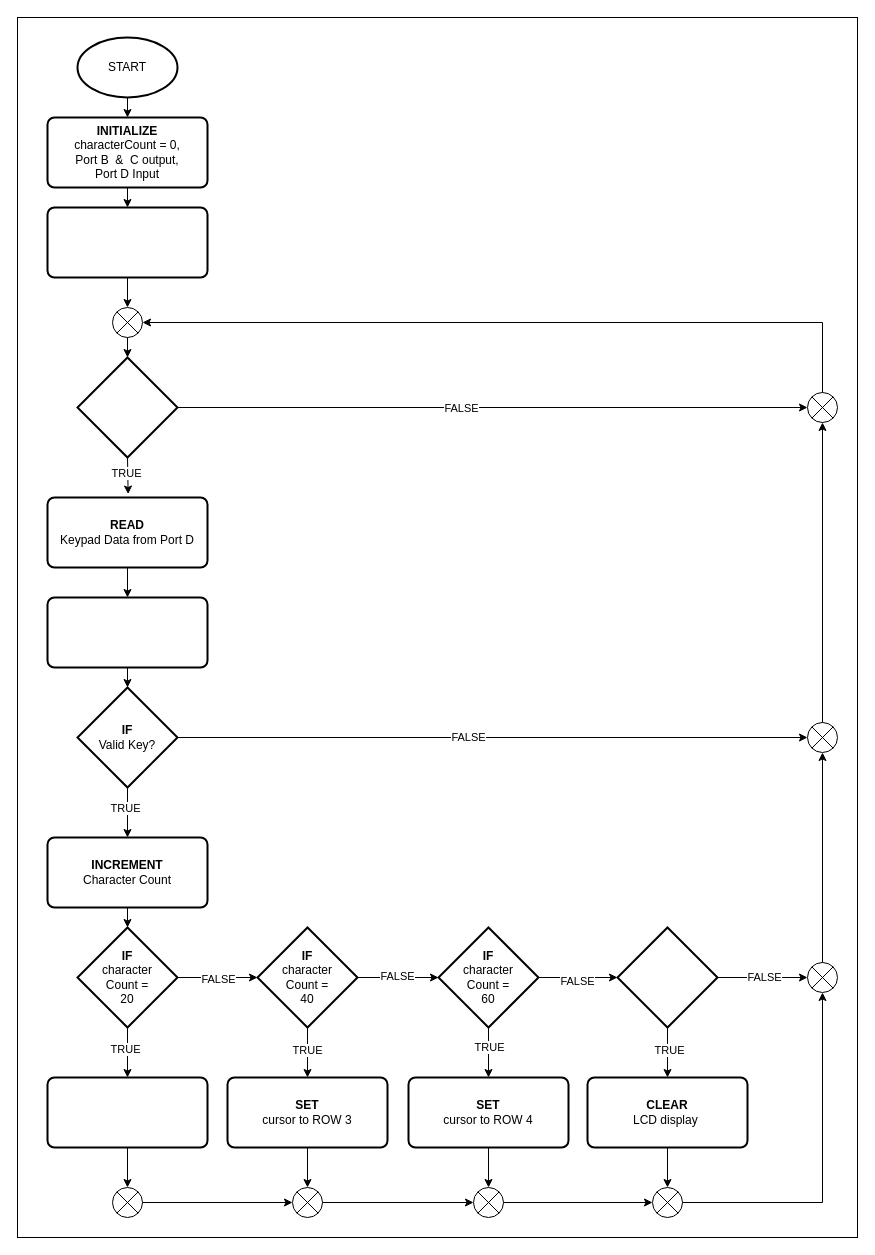
The diagram is 875 pixels wide and 1255 high, and some of its shapes have lost their labels. Each missing label, with the box of its shape:
DECODE Keypad Data from Port D: (46, 596, 208, 668)
IF character Count > 80: (616, 926, 718, 1028)
IF DAVBL?: (76, 356, 178, 458)
INITIALIZE LCD: (46, 206, 208, 278)
SET cursor to ROW 2: (46, 1076, 208, 1148)
